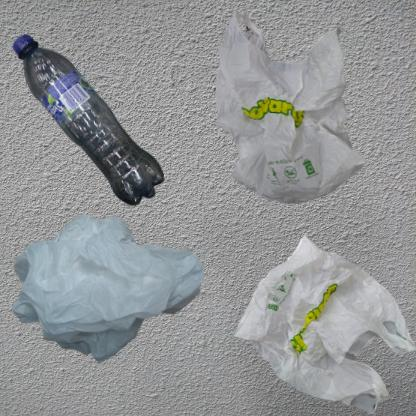bolsa: (213, 213, 416, 416), (213, 10, 369, 206), (10, 213, 206, 365)
botella: (10, 10, 185, 249)
